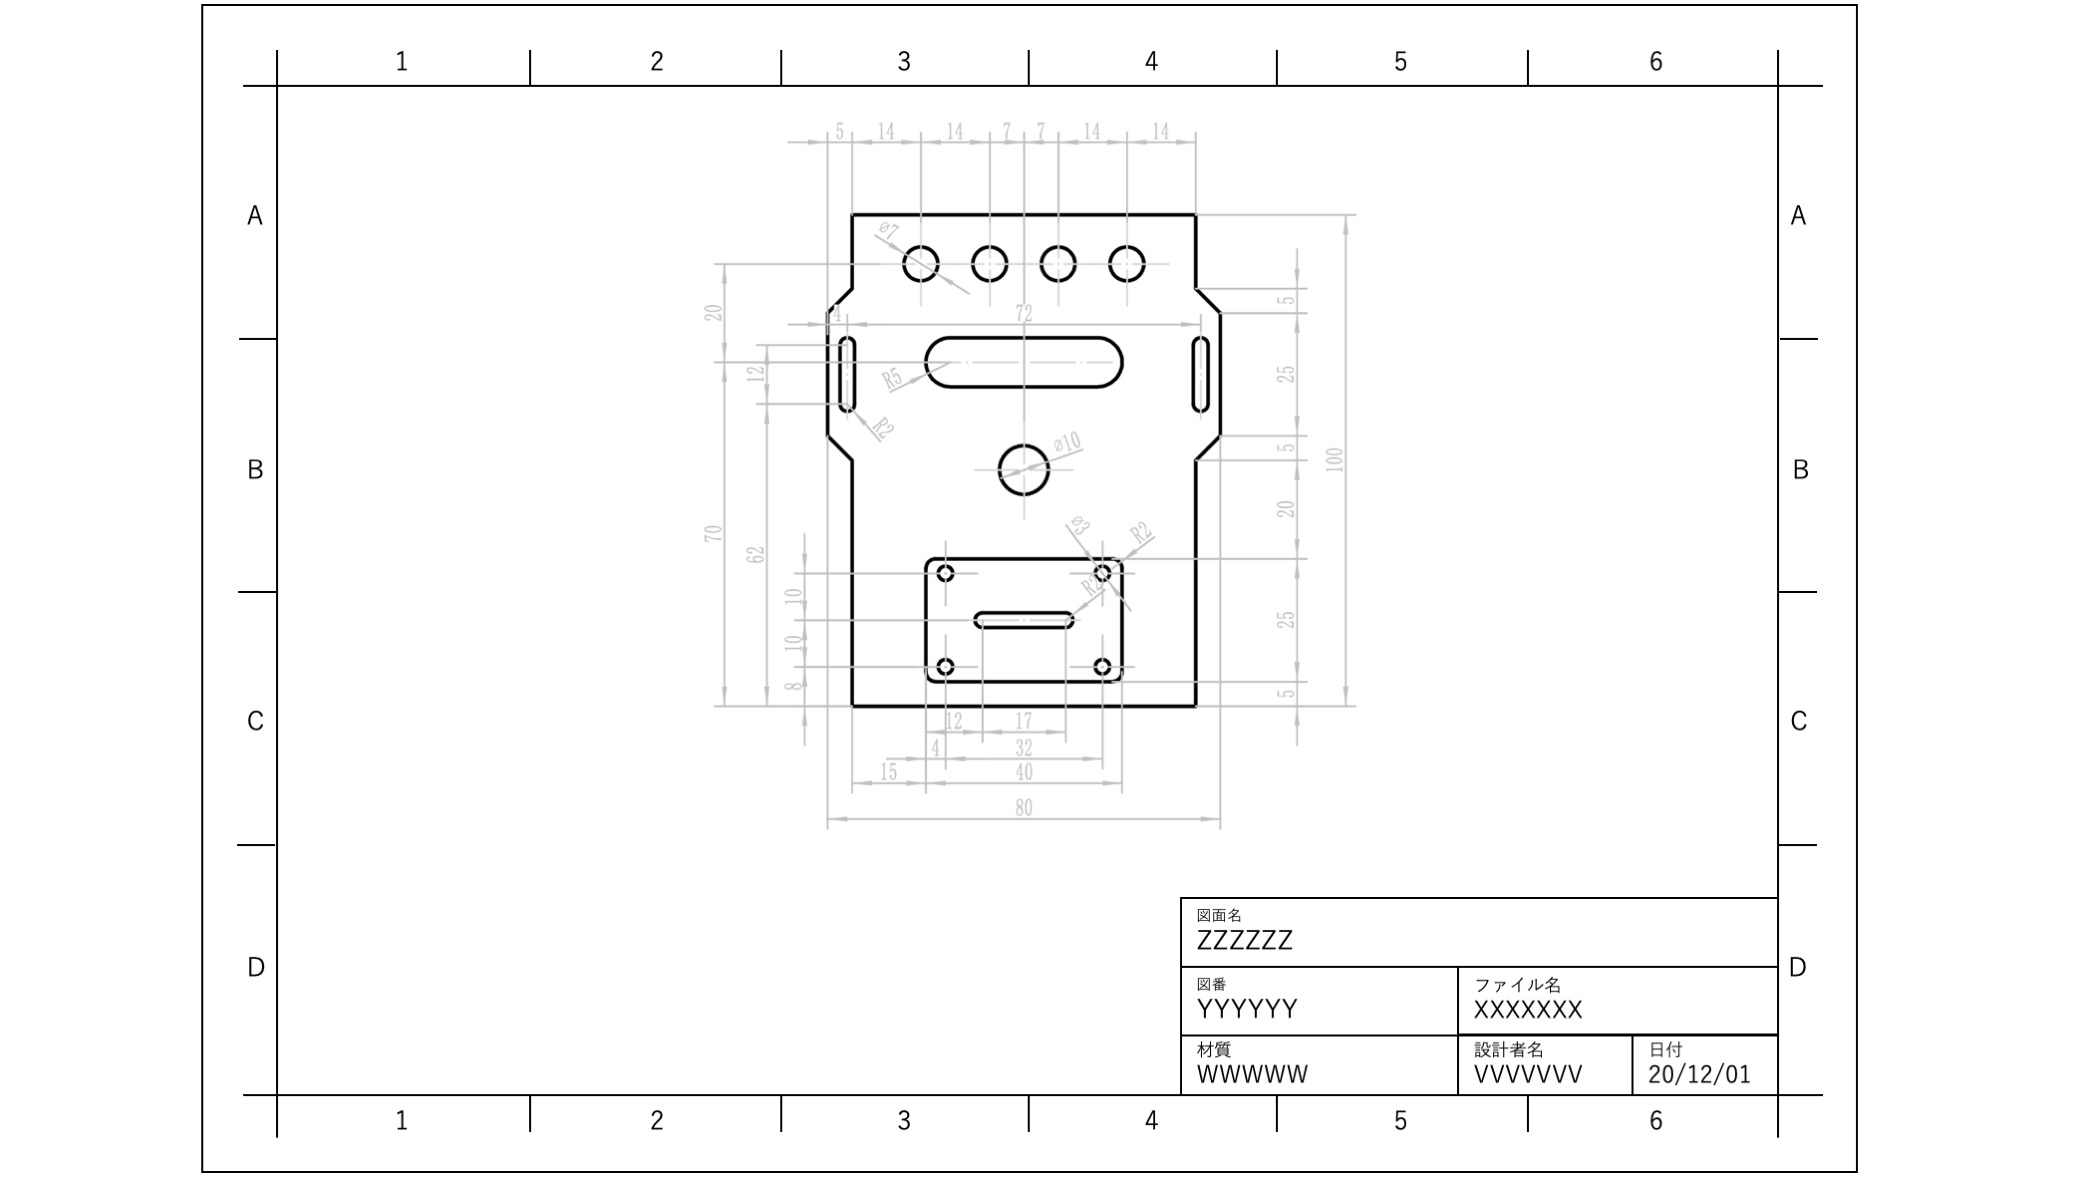circle: (997, 438, 1053, 500), (1103, 232, 1152, 288), (1038, 235, 1087, 288), (966, 235, 1012, 288), (893, 244, 950, 286), (932, 655, 961, 676), (1090, 650, 1113, 676), (1092, 561, 1116, 584), (933, 558, 955, 584)
round_rectangle: (922, 320, 1129, 397), (1181, 319, 1219, 417), (969, 606, 1075, 634), (829, 329, 860, 418)
